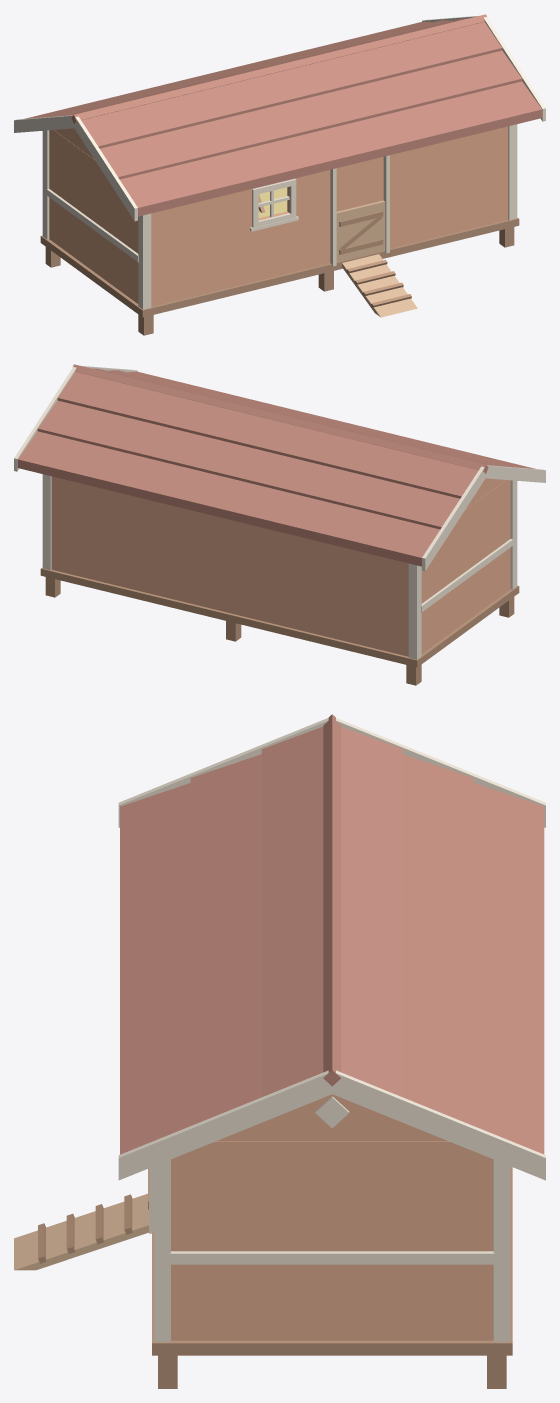
Rendered from coop.glb.
3 renders of one model, top to bottom at view 1: azimuth 30°, elevation 25°; view 2: azimuth 150°, elevation 25°; view 3: azimuth 270°, elevation 25°, orthographic. The views are drawn at different scales.
Parts seen in each view (by area): view 1: roof_shell, front_board, side_board_R, floor, ridge_cap, rake_R, pop_door_panel, ramp, corner_FR, window_frame, corner_FL, side_belt_R (+6 smaller); view 2: roof_shell, back_board, side_board_R, floor, ridge_cap, rake_R, corner_BR, corner_BL, side_belt_R, corner_FR, rake_L; view 3: roof_shell, side_board_L, rake_L, ridge_cap, floor, gable_L, side_belt_L, ramp, corner_BL, rake_R, corner_FL.
Part boxes in pixels (x1,y1,x2,y2): roof_shell: (24,18,542,216); front_board: (151,126,508,306); side_board_R: (49,130,138,303); floor: (40,217,519,317); ridge_cap: (71,14,487,123); rake_R: (14,115,137,221); pop_door_panel: (336,200,385,262); ramp: (342,254,417,317); corner_FR: (138,213,151,309); window_frame: (252,178,296,227); corner_FL: (508,124,517,220); side_belt_R: (46,189,138,262); roof_shell: (17,368,535,566); back_board: (51,476,408,656); side_board_R: (421,480,510,653); floor: (40,567,519,667); ridge_cap: (72,364,488,473); rake_R: (422,465,545,571); corner_BR: (408,563,421,659); corner_BL: (42,474,51,570); side_belt_R: (421,539,513,612); corner_FR: (510,480,517,589); rake_L: (14,366,137,471); roof_shell: (120,726,544,1154); side_board_L: (171,1141,493,1340); rake_L: (118,1070,545,1180); ridge_cap: (323,714,341,1086); floor: (152,1166,512,1355); gable_L: (215,1094,448,1141); side_belt_L: (169,1251,495,1264); ramp: (14,1193,148,1270); corner_BL: (493,1160,510,1342); rake_R: (118,718,545,827); corner_FL: (154,1159,170,1342).
Bounding box in the file's own units: 5.56 × 2.45 × 3.51.
